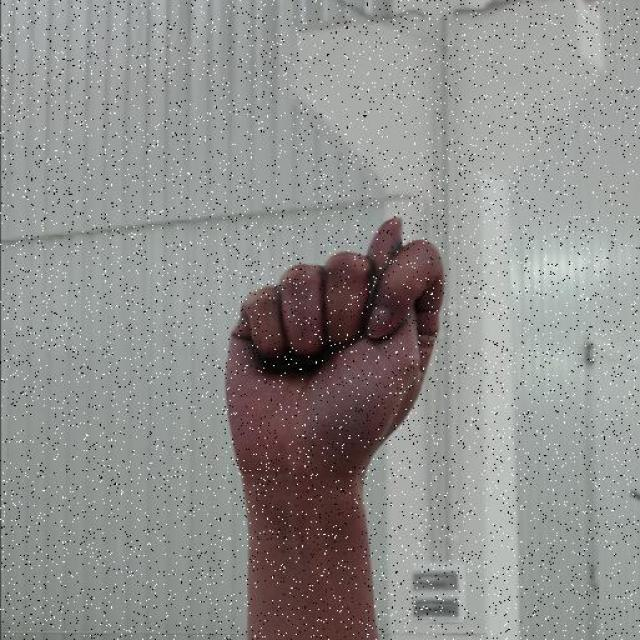T: (216, 211, 450, 484)
